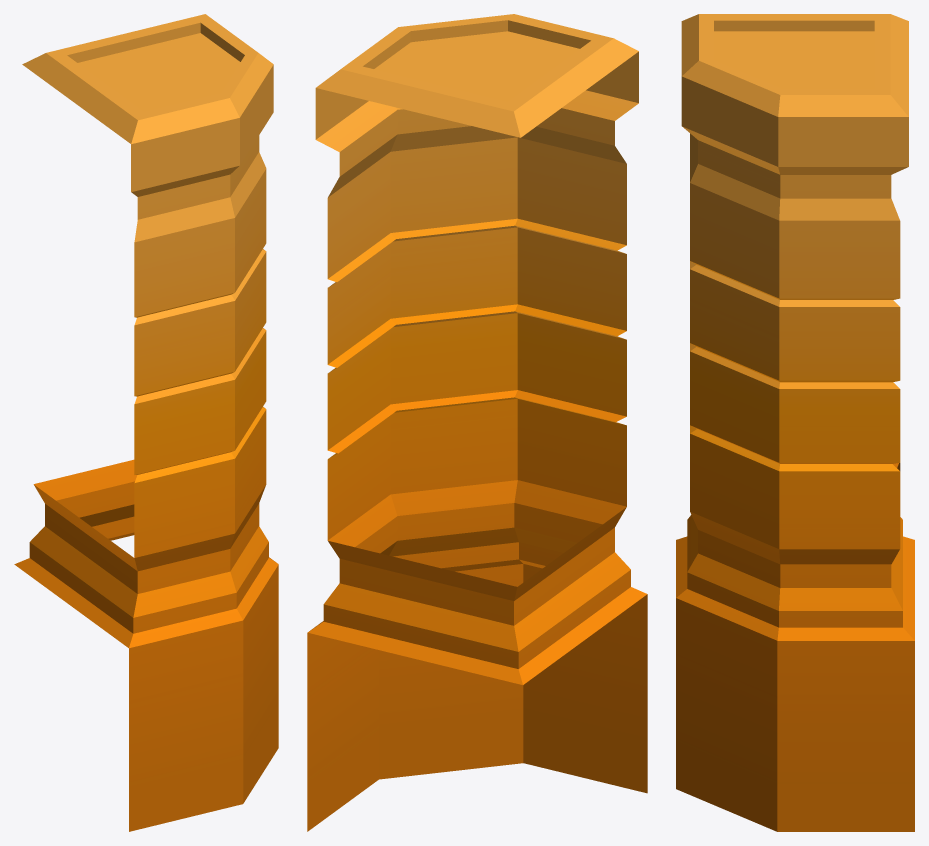
Rendered from Pillar 04.fbx.
3 renders of one model, left to right at view 1: azimuth 30°, elevation 25°; view 2: azimuth 150°, elevation 25°; view 3: azimuth 270°, elevation 25°, orthographic. The views are drawn at different scales.
Visible parts, largest first — view 1: Pillar 04; view 2: Pillar 04; view 3: Pillar 04.
Part boxes in pixels (<box>): Pillar 04: <box>14,14,278,831</box>; Pillar 04: <box>307,14,647,831</box>; Pillar 04: <box>676,14,914,831</box>.
Bounding box in the file's own units: 173 × 581 × 173.
